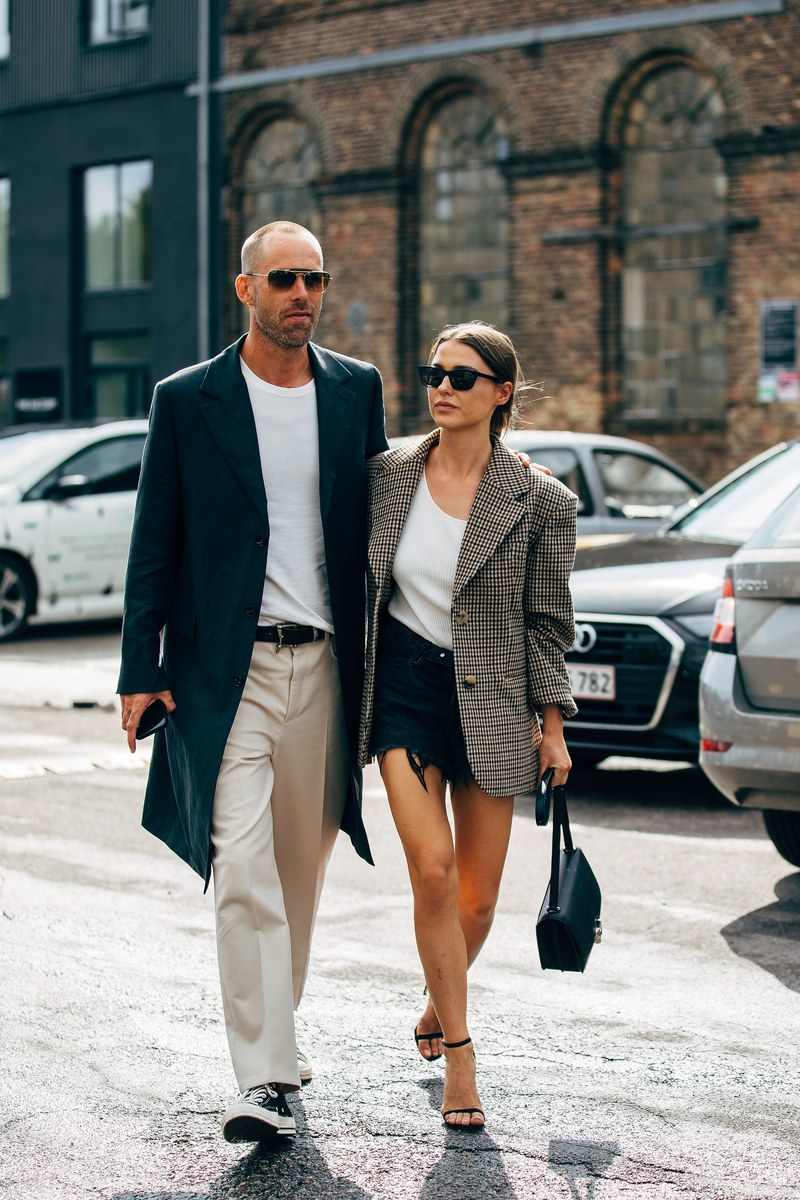Person: (107, 198, 389, 1163), (336, 306, 622, 1127)
